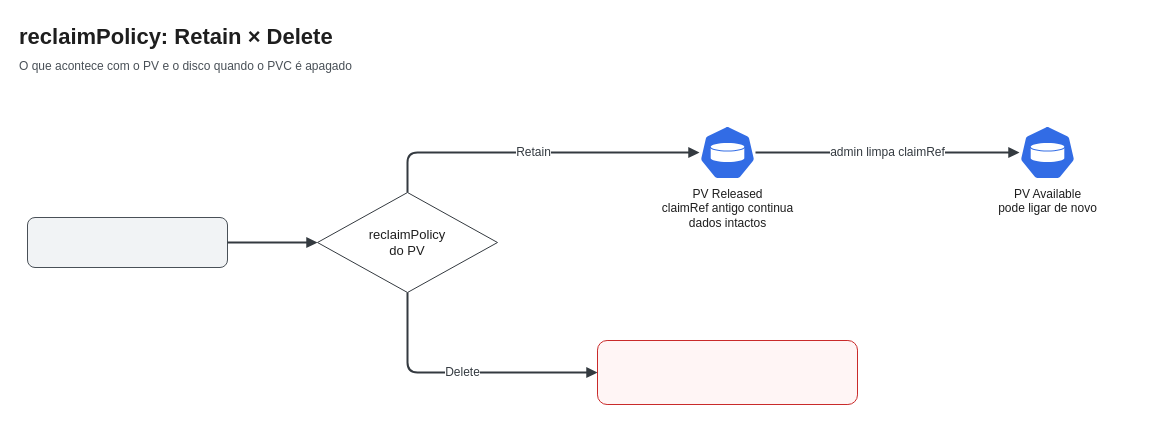
Some shapes in this 1154 by 422 pixel diagram are drawn without their labels. Each missing label, with the centre of its shape:
kubectl delete pvc: (127,242)
provisionador apaga o disco PV removido: (727,372)
